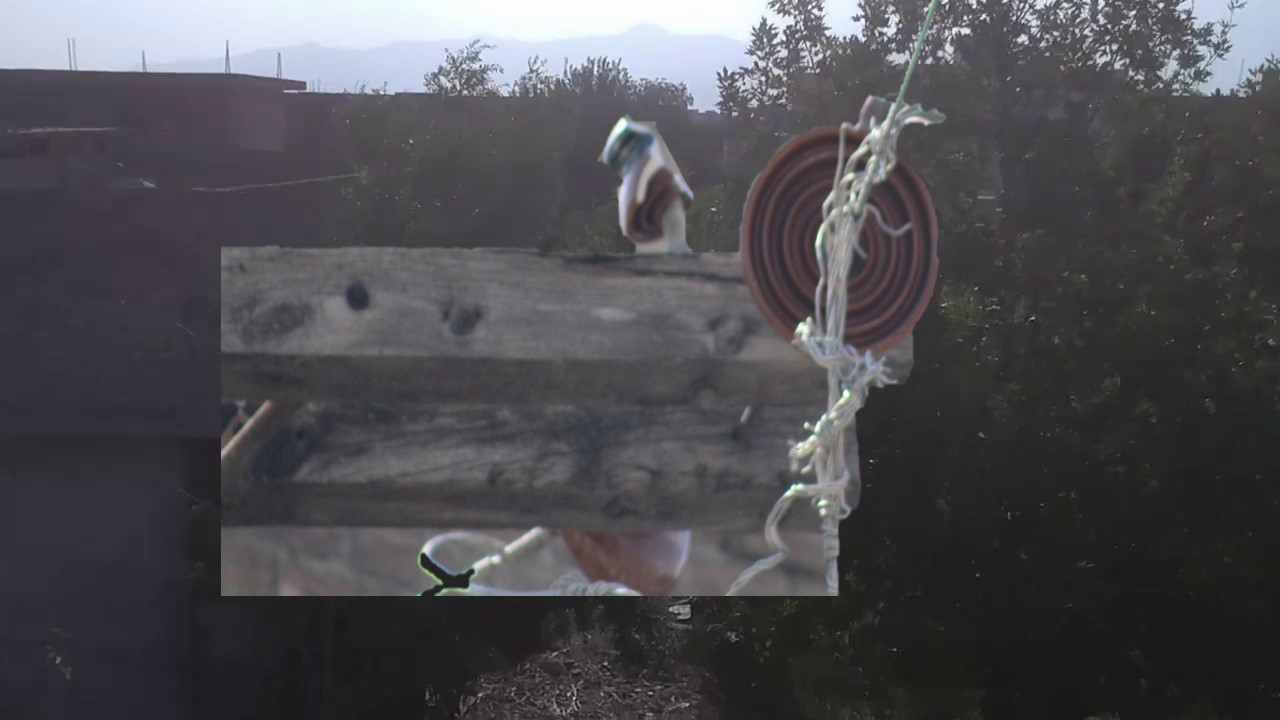defect_pin: (597, 111, 702, 260)
insulator_disc: (737, 120, 948, 368)
